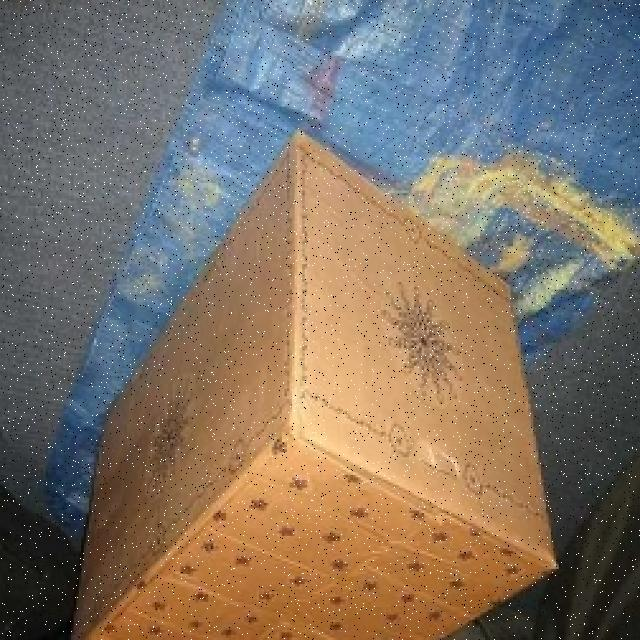box: (69, 152, 551, 640)
